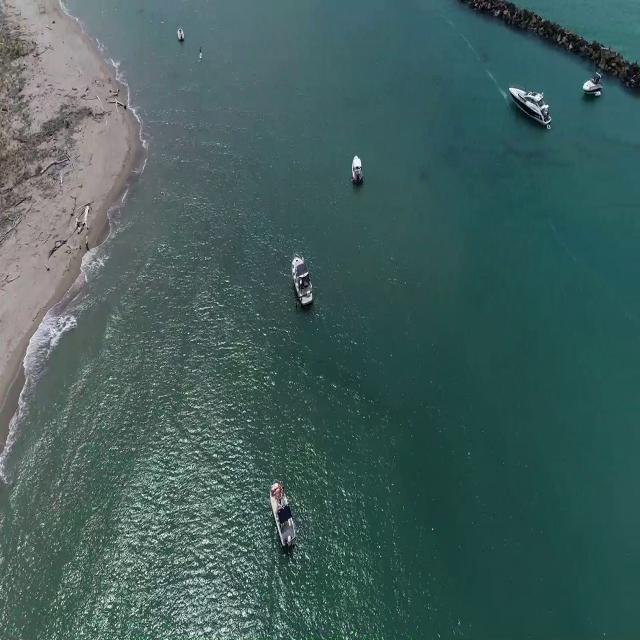boat: (507, 86, 553, 132), (271, 482, 294, 551), (292, 250, 316, 308), (581, 71, 605, 98), (350, 150, 366, 186), (178, 25, 186, 42)
person: (198, 43, 204, 55)
surfboard: (198, 52, 206, 65)
wood: (52, 204, 94, 250)
